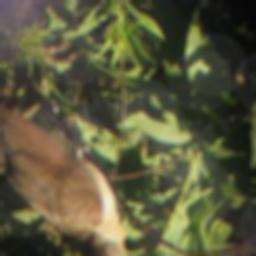Cuckoo: (0, 53, 155, 256)
